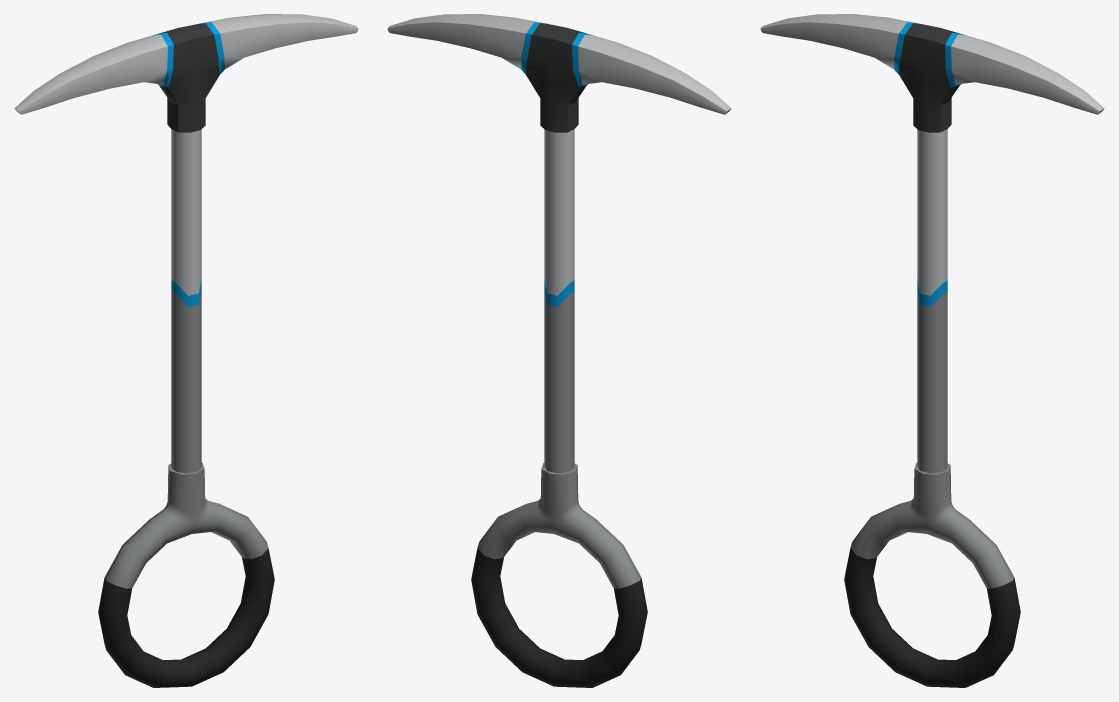
The model's file is Picaxe_001.fbx.
3 views of the same model, side by side, from view 1: azimuth 30°, elevation 25°; view 2: azimuth 150°, elevation 25°; view 3: azimuth 330°, elevation 25° (orthographic).
Visible parts, largest first — view 1: Picaxe_001; view 2: Picaxe_001; view 3: Picaxe_001.
Boxes of the visible parts, x1,y1,x2,y2 form: Picaxe_001: (14,14,358,687); Picaxe_001: (387,14,731,687); Picaxe_001: (760,14,1104,687).
Bounding box in the file's own units: 52.05 × 4.98 × 96.44.
